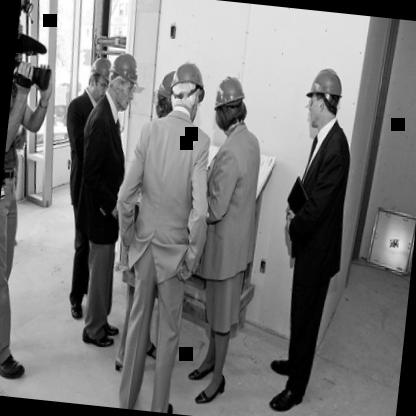helmet: (301, 64, 344, 136), (169, 58, 207, 122), (210, 74, 248, 136), (106, 50, 142, 112), (154, 66, 182, 124), (84, 52, 115, 104)
